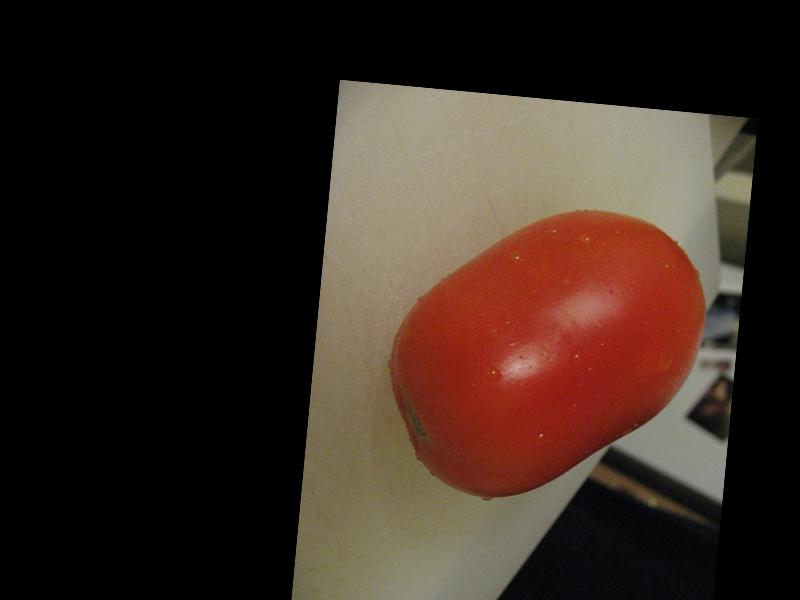Tomato: (380, 193, 715, 516)
